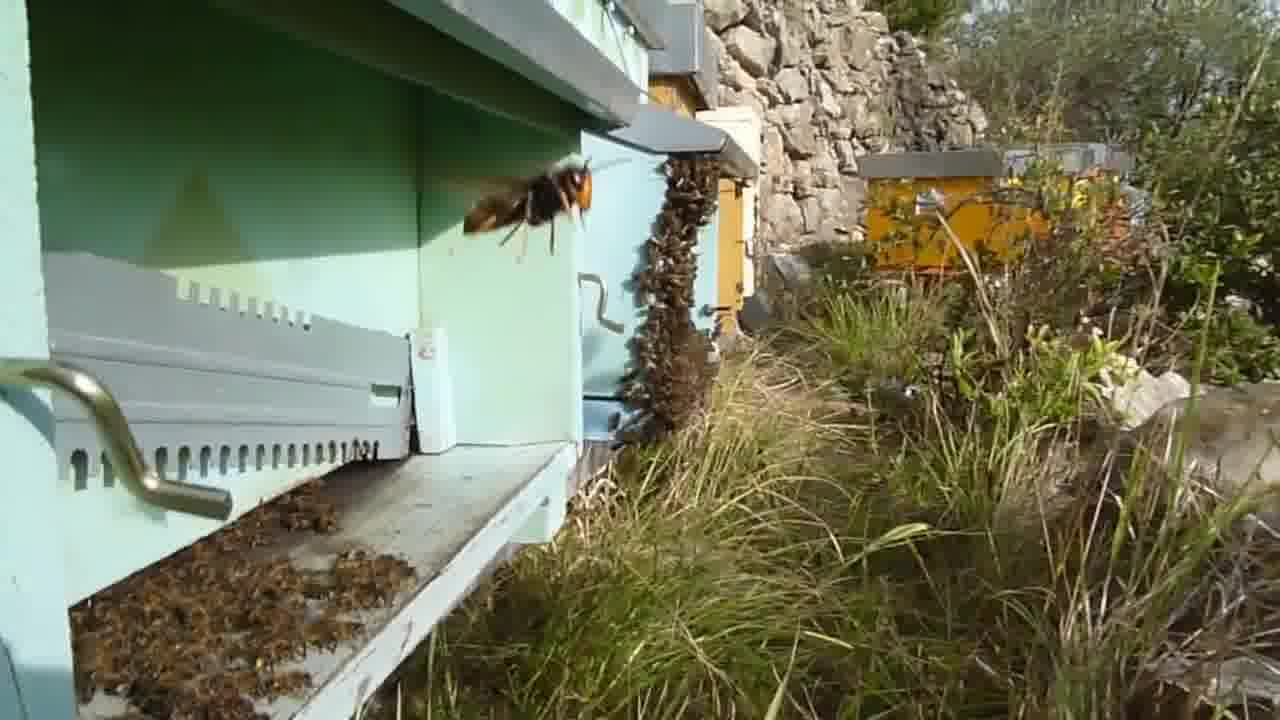bee: (192, 545, 339, 657), (72, 602, 185, 711), (627, 312, 711, 390), (631, 232, 701, 306), (654, 160, 726, 230), (187, 663, 263, 711), (273, 490, 348, 533), (360, 557, 418, 604), (129, 571, 190, 607)
hornet: (449, 161, 598, 249)
